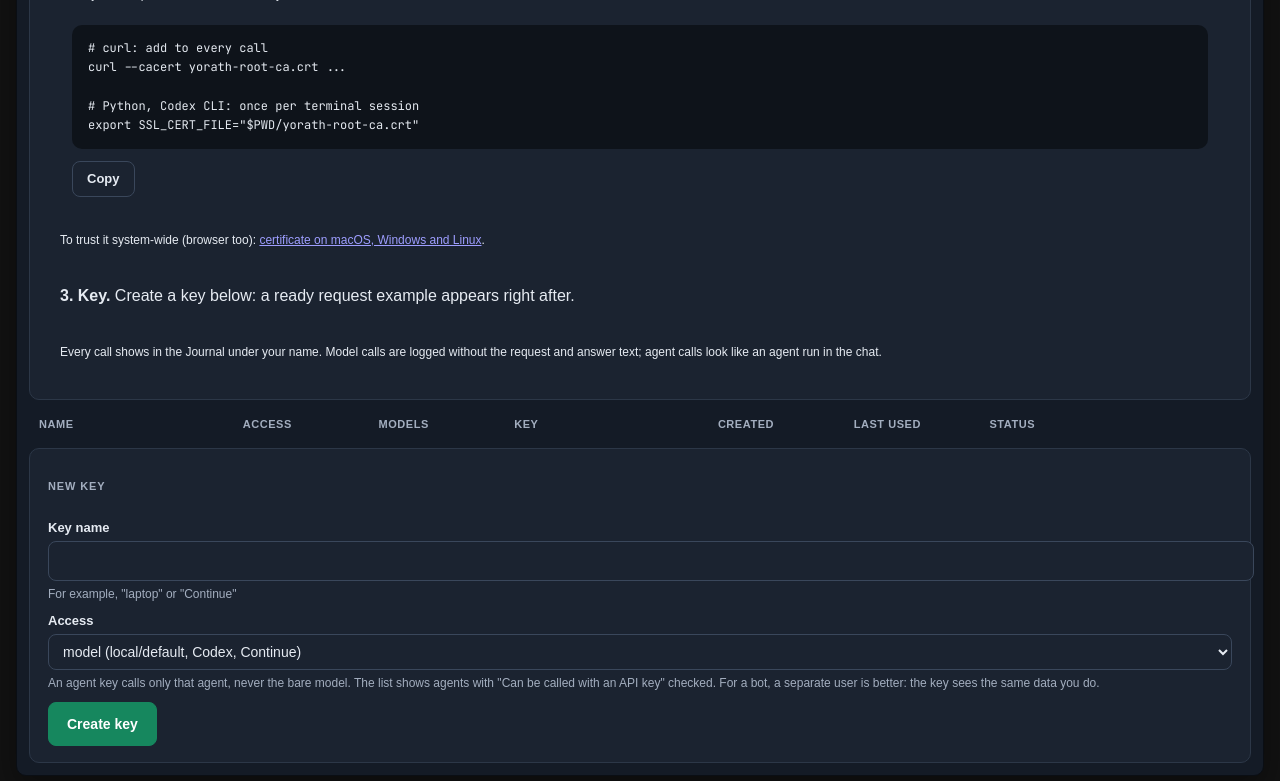
Test: API keys › with the Yorath certificate: curl with --cacert, a root link and Codex setup
The image size is (1280, 781).
(page scrolled)
Check: the text named "Trust the certificate" shows "export SSL_CERT_FILE=\"$PWD/yorath-root-ca.crt\"", box [88,40,419,133]
Step 1. Type "laptop" into the field labelled "Key name" → {"x": 651, "y": 561}, box [48,541,1254,581]
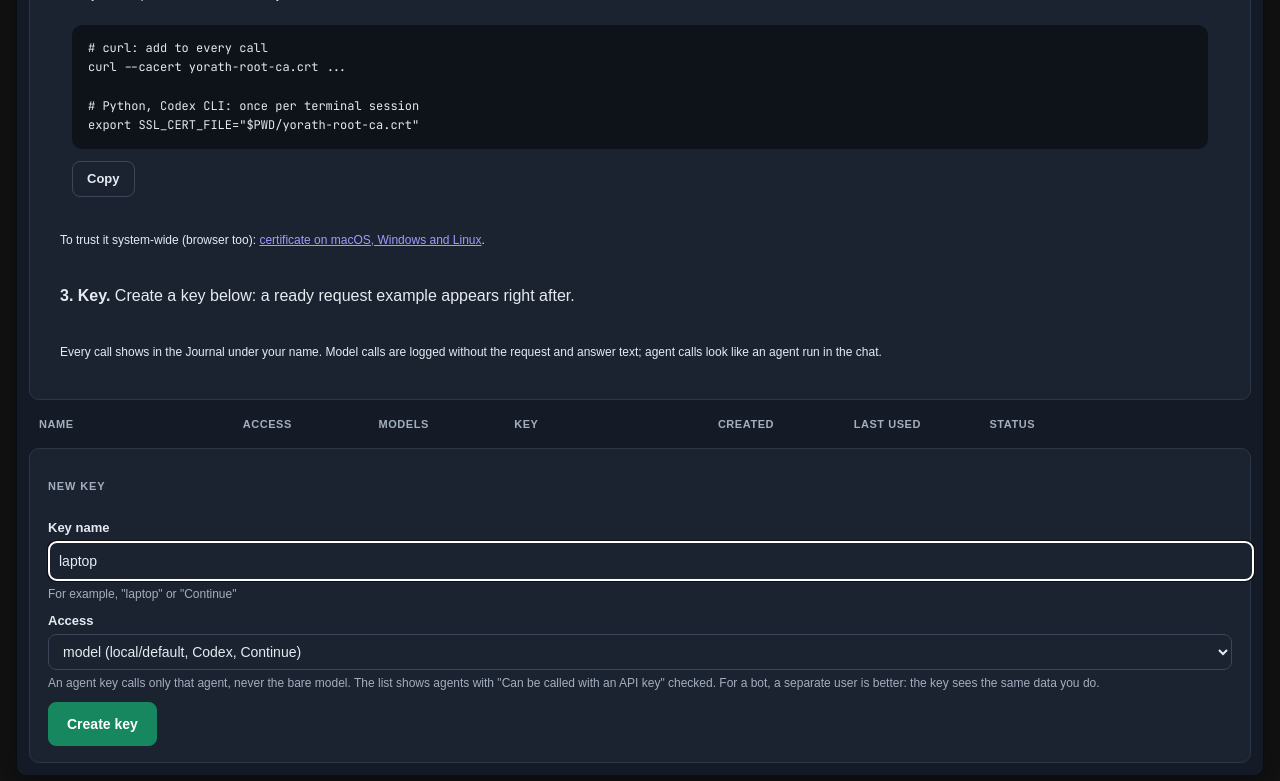
Step 2. Click the button "Create key" → {"x": 102, "y": 724}, box [48,702,157,746]
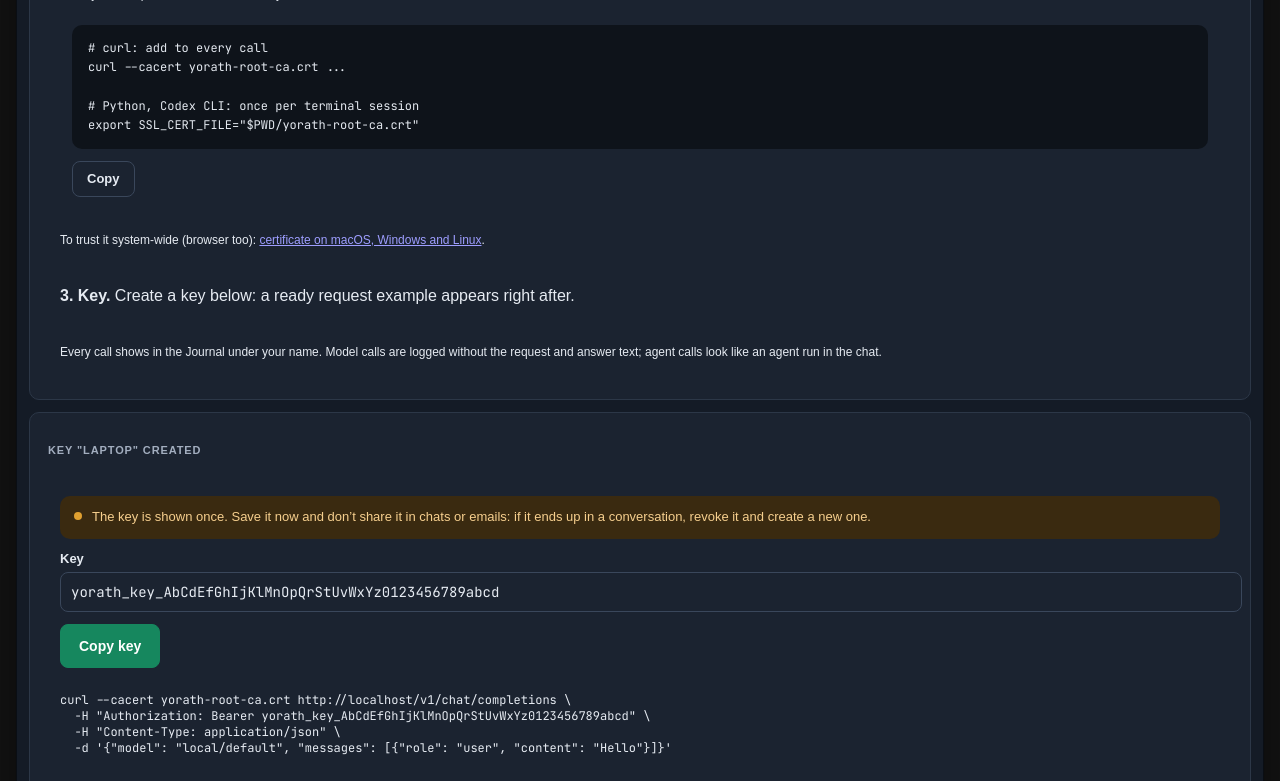
Check: the text named "Request example" shows "curl --cacert yorath-root-ca.crt", box [60,692,672,756]
Check: the text "don’t share it in chats" is shown, box [92,509,871,524]
